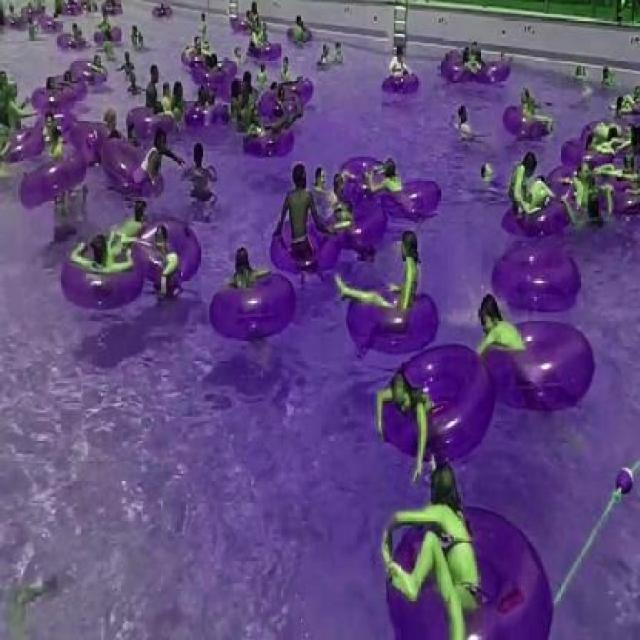drowning: (0, 557, 65, 640), (184, 141, 224, 214), (441, 106, 482, 154), (473, 154, 502, 206), (565, 60, 592, 111), (334, 32, 358, 80), (128, 24, 150, 61), (319, 36, 336, 79), (280, 51, 298, 88), (230, 35, 248, 70), (126, 71, 146, 98), (602, 60, 618, 92), (198, 5, 211, 41), (101, 35, 119, 60), (257, 59, 271, 90), (118, 51, 137, 72)
